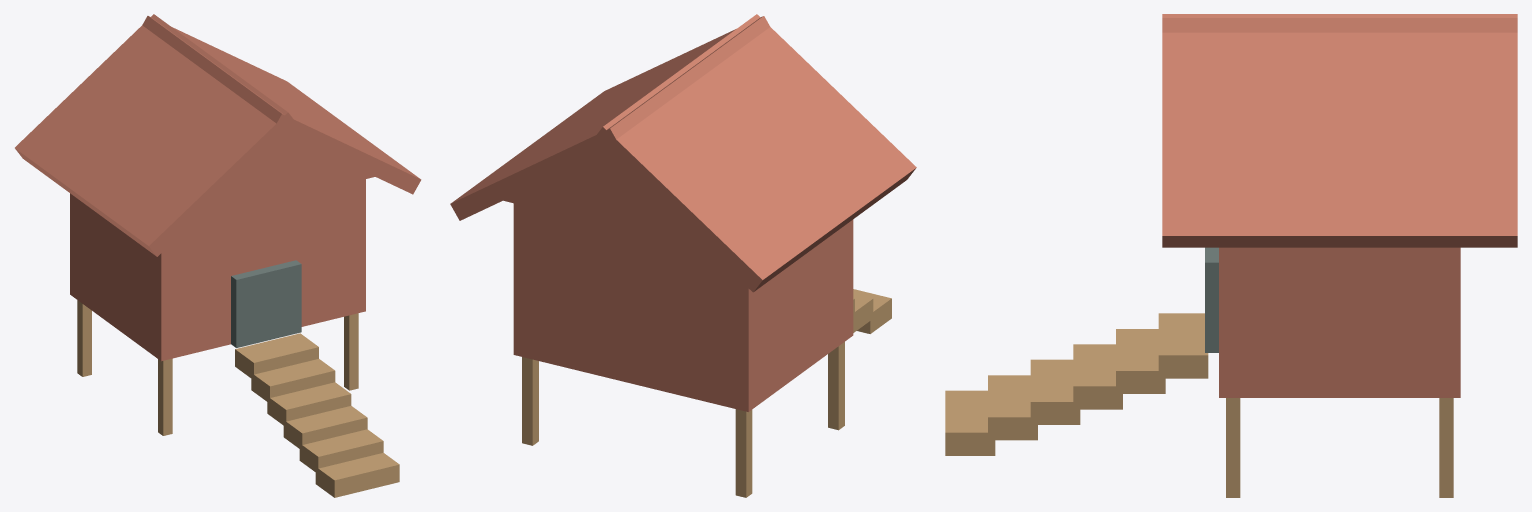
File: cozy-farm-and-homestead-henhouse-10c84eda__19364.glb
3 renders of one model, left to right at view 1: azimuth 30°, elevation 25°; view 2: azimuth 150°, elevation 25°; view 3: azimuth 270°, elevation 25°, orthographic. The views are drawn at different scales.
Visible parts, largest first — view 1: henhouse; view 2: henhouse; view 3: henhouse.
Boxes of the visible parts, left/top/right/bottom form: henhouse: left=15, top=14, right=421, bottom=497; henhouse: left=450, top=14, right=916, bottom=497; henhouse: left=945, top=14, right=1517, bottom=497.
Bounding box in the file's own units: 2.93 × 3.25 × 4.03.
